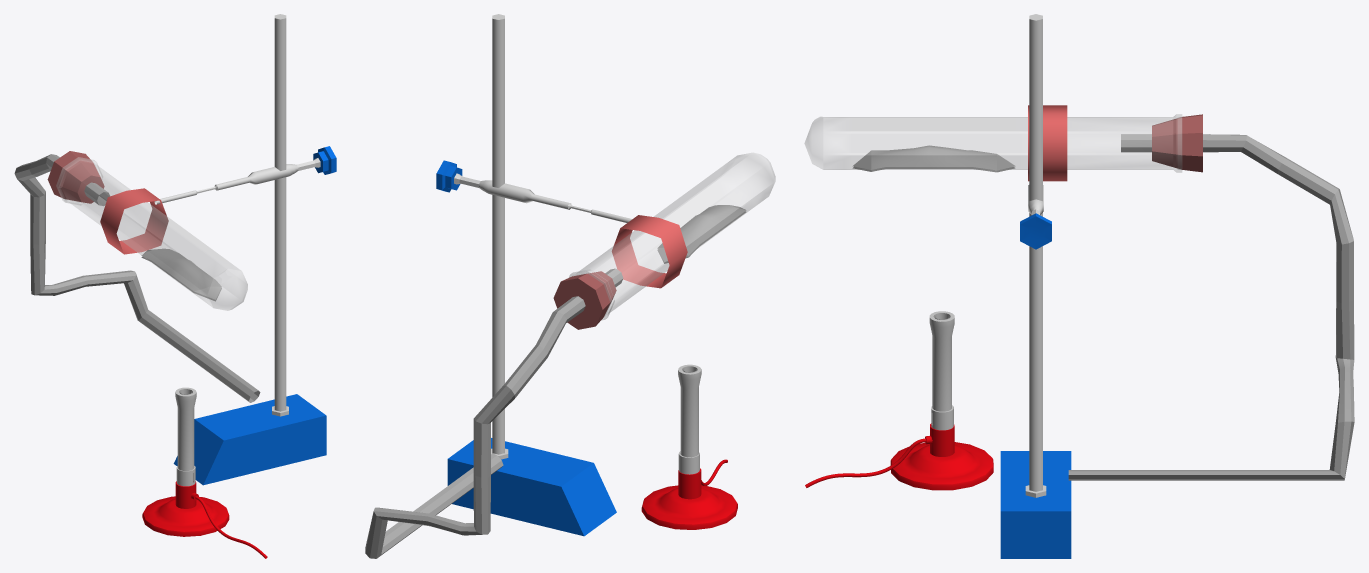
File: reduction_experiment.fbx
3 renders of one model, left to right at view 1: azimuth 30°, elevation 25°; view 2: azimuth 150°, elevation 25°; view 3: azimuth 270°, elevation 25°, orthographic. The views are drawn at different scales.
Visible parts, largest first — view 1: polySurface36, base, bunsen_burner, pole, grip_holder, polySurface37; view 2: polySurface36, base, bunsen_burner, pole, grip_holder, polySurface37; view 3: polySurface36, bunsen_burner, base, pole, polySurface37, grip_holder.
Boxes of the visible parts, x1=… form: polySurface36: x1=14, y1=151, x2=260, y2=402; base: x1=173, y1=394, x2=326, y2=485; bunsen_burner: x1=142, y1=387, x2=267, y2=558; pole: x1=272, y1=14, x2=288, y2=416; grip_holder: x1=154, y1=146, x2=336, y2=204; polySurface37: x1=141, y1=248, x2=221, y2=299; polySurface36: x1=365, y1=152, x2=775, y2=558; base: x1=447, y1=438, x2=616, y2=536; bunsen_burner: x1=641, y1=364, x2=737, y2=529; pole: x1=491, y1=14, x2=508, y2=459; grip_holder: x1=436, y1=160, x2=632, y2=222; polySurface37: x1=657, y1=205, x2=746, y2=261; polySurface36: x1=804, y1=105, x2=1354, y2=480; bunsen_burner: x1=805, y1=311, x2=993, y2=490; base: x1=1000, y1=451, x2=1071, y2=558; pole: x1=1025, y1=14, x2=1046, y2=497; polySurface37: x1=852, y1=145, x2=1015, y2=170; grip_holder: x1=1020, y1=185, x2=1051, y2=249.
Bounding box in the file's own units: 50.38 × 97.44 × 90.76.
